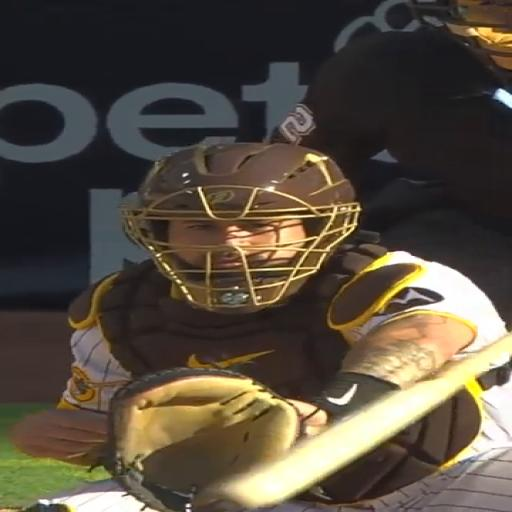bat: (205, 333, 511, 508)
